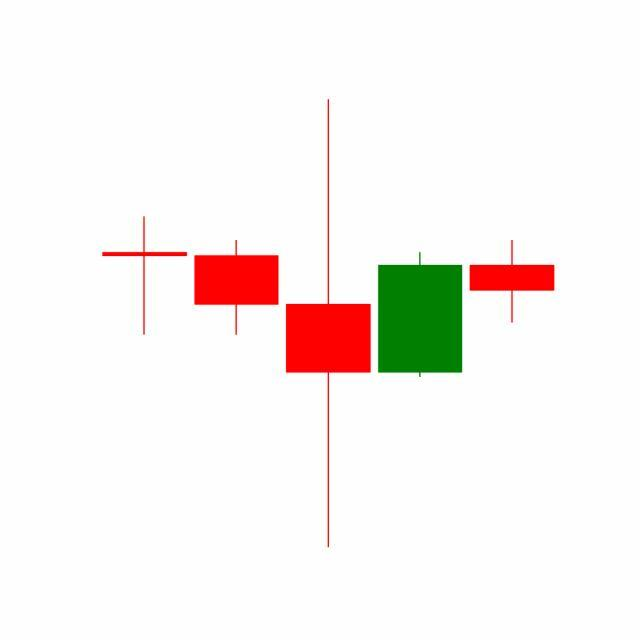Hammer: (466, 239, 559, 324)
